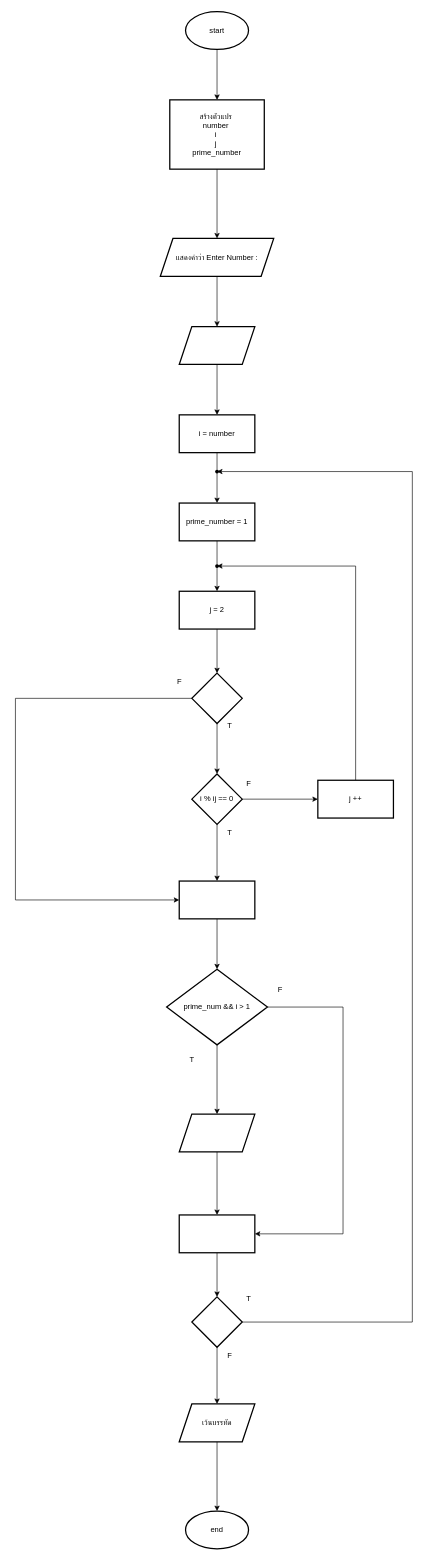
The diagram is 428 pixels wide and 1560 high, and some of its shapes have lost their labels. The box of each missing label's shape, as (x1, y1, x2, y2) in pixels:
i --: (178, 1214, 255, 1253)
i >= 2: (191, 1296, 243, 1348)
j * j <= i: (191, 672, 243, 724)
prime_number = 0: (178, 880, 255, 919)
รับค่าจากผุู้ใช้: (178, 326, 255, 365)
แสดงจำนวนเฉพาะ: (178, 1113, 255, 1152)
